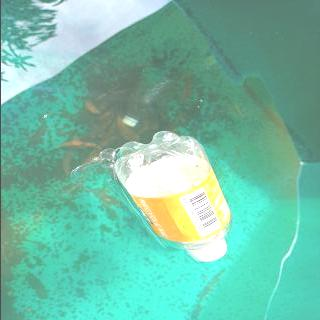bottle: (110, 130, 235, 263)
